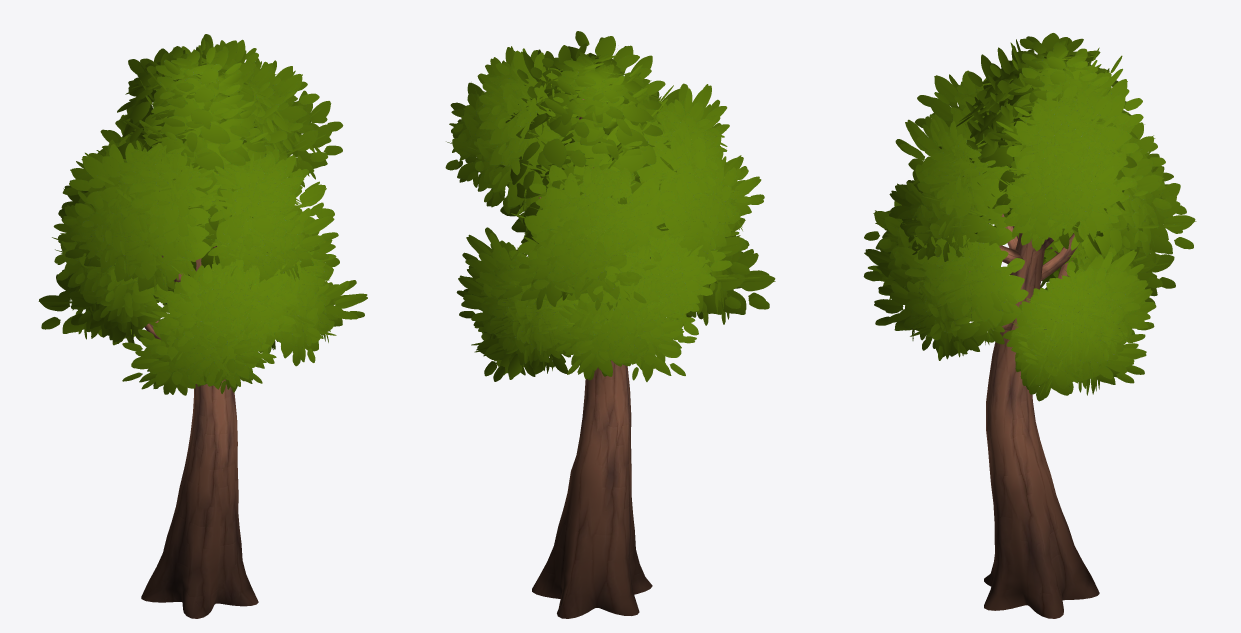
File: nature.gltf
3 views of the same model, side by side, from view 1: azimuth 30°, elevation 25°; view 2: azimuth 150°, elevation 25°; view 3: azimuth 270°, elevation 25° (orthographic). The views are drawn at different scales.
Parts seen in each view (by area): view 1: CommonTree_1; view 2: CommonTree_1; view 3: CommonTree_1.
Boxes of the visible parts, x1,y1,x2,y2 form: CommonTree_1: [38, 34, 367, 618]; CommonTree_1: [445, 31, 775, 618]; CommonTree_1: [863, 33, 1196, 618].
Bounding box in the file's own units: 4.31 × 7.26 × 4.58.
Materials: 2 (2 with a texture image).
